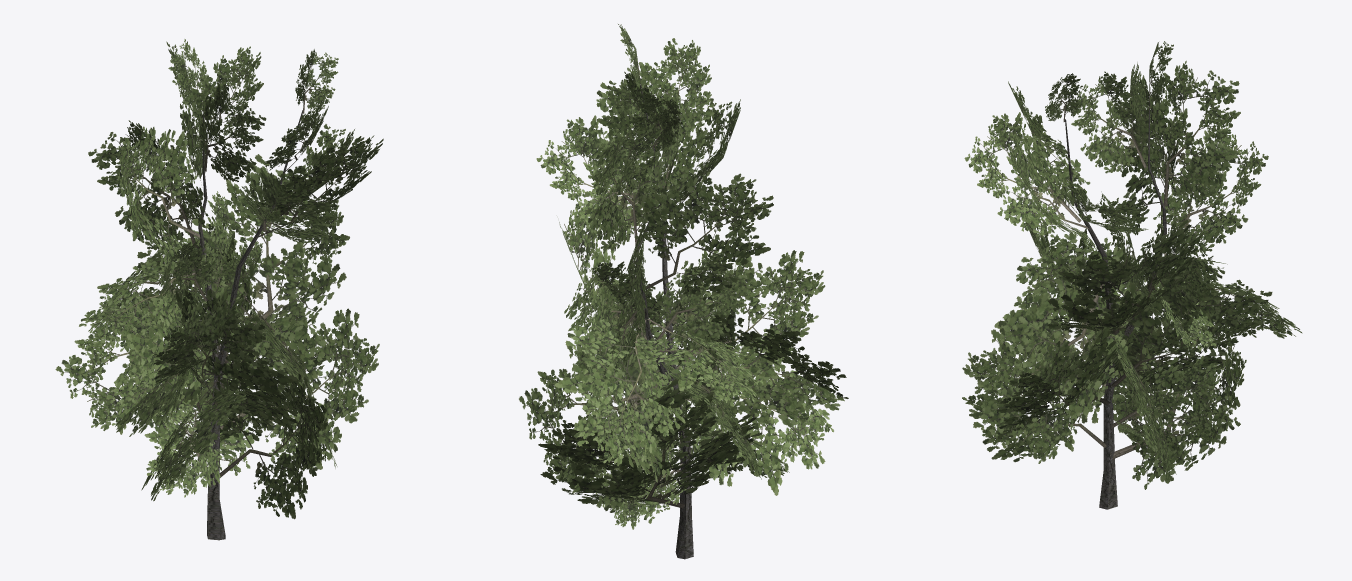
Rendered from Tree-02-4.gltf.
The picture shows the model from 3 angles, left to right: view 1: azimuth 30°, elevation 25°; view 2: azimuth 150°, elevation 25°; view 3: azimuth 270°, elevation 25°; orthographic projection. The views are drawn at different scales.
Parts seen in each view (by area): view 1: Tree-02-4; view 2: Tree-02-4; view 3: Tree-02-4.
Part boxes in pixels (x1=…): Tree-02-4: x1=55, y1=39, x2=383, y2=540; Tree-02-4: x1=519, y1=24, x2=848, y2=559; Tree-02-4: x1=962, y1=41, x2=1302, y2=509.
Bounding box in the file's own units: 3.84 × 5.49 × 4.4.
3 materials, 3 textured.
